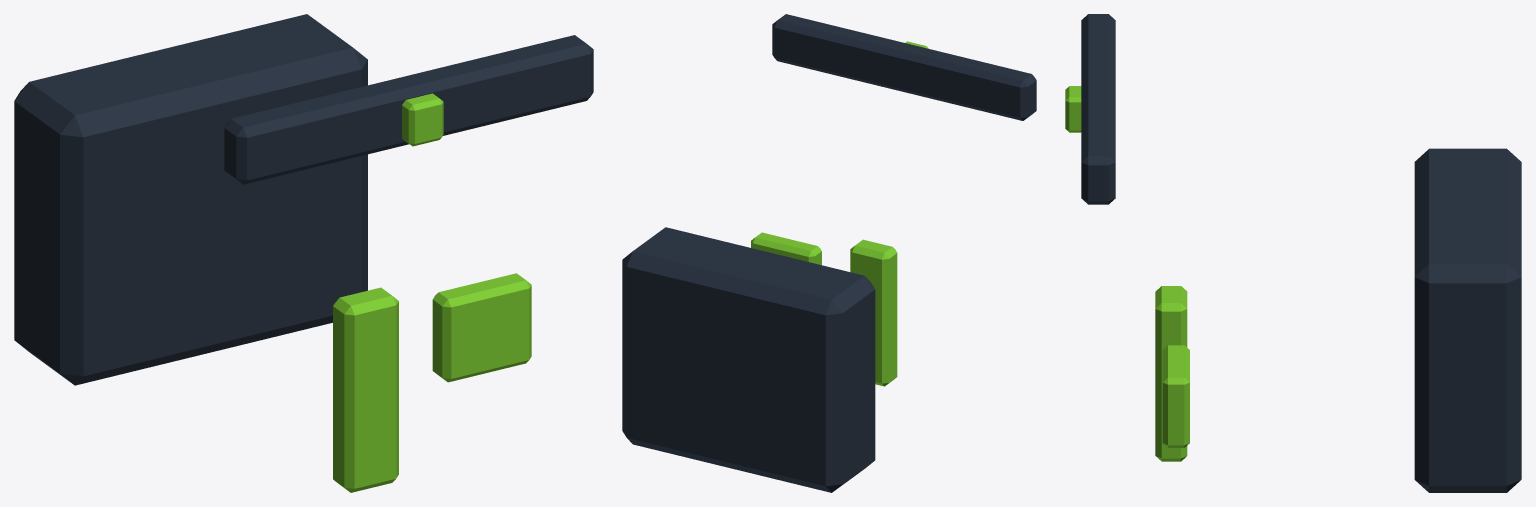
File: board_member.glb
The picture shows the model from 3 angles, left to right: view 1: azimuth 30°, elevation 25°; view 2: azimuth 150°, elevation 25°; view 3: azimuth 270°, elevation 25°; orthographic projection. The views are drawn at different scales.
Visible parts, largest first — view 1: board_member_torso, board_member_head; view 2: board_member_torso, board_member_head; view 3: board_member_torso, board_member_head.
Boxes of the visible parts, <box> form: board_member_torso: <box>14,14,531,492</box>; board_member_head: <box>224,35,593,184</box>; board_member_torso: <box>622,227,897,492</box>; board_member_head: <box>772,14,1036,120</box>; board_member_torso: <box>1155,148,1521,492</box>; board_member_head: <box>1065,14,1115,204</box>.
Size of the model in its own units: 0.36 by 0.4175 by 0.469.
